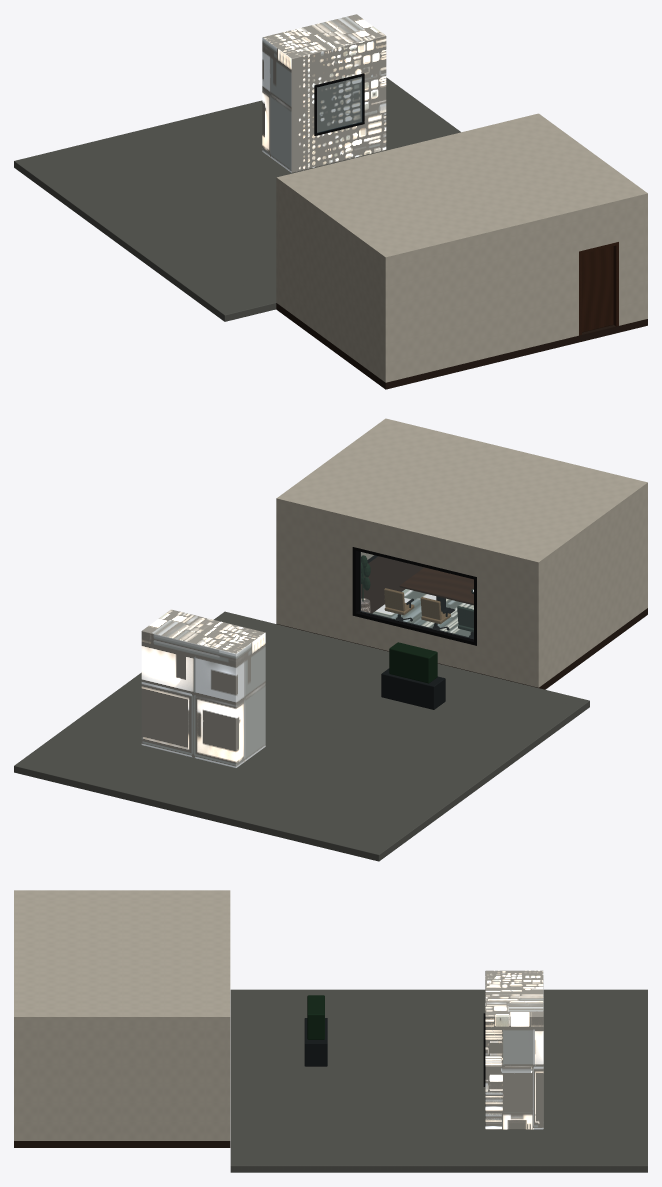
3 renders of one model, top to bottom at view 1: azimuth 30°, elevation 25°; view 2: azimuth 150°, elevation 25°; view 3: azimuth 270°, elevation 25°, orthographic.
Parts seen in each view (by area): view 1: shell.walls, exterior.near-ground, shell.ceiling, exterior.context-mass, shell.floor, opening.main-door.panel, exterior.context-window.glass, exterior.context-window.frame; view 2: exterior.near-ground, shell.walls, shell.ceiling, exterior.context-mass, opening.main-window.glass, shell.floor, exterior.planter, component.conference-table.top, exterior.hedge, reality.area-rug, opening.main-window.frame.bottom; view 3: exterior.near-ground, shell.ceiling, shell.walls, exterior.context-mass, shell.floor, exterior.hedge, exterior.planter.
Part boxes in pixels (x1,y1,x2,y2): shell.walls: (276,184,647,382); exterior.near-ground: (14,77,460,321); shell.ceiling: (276,113,647,263); exterior.context-mass: (262,14,386,172); shell.floor: (276,303,647,389); opening.main-door.panel: (582,246,613,332); exterior.context-window.glass: (317,76,362,133); exterior.context-window.frame: (314,73,364,135); exterior.near-ground: (14,611,589,861); shell.walls: (276,489,647,687); shell.ceiling: (276,418,647,569); exterior.context-mass: (141,609,265,767); opening.main-window.glass: (360,552,473,638); shell.floor: (277,556,647,689); exterior.planter: (381,668,445,709); component.conference-table.top: (399,567,473,605); exterior.hedge: (389,642,437,683); reality.area-rug: (372,589,473,636); opening.main-window.frame.bottom: (355,610,473,644); exterior.near-ground: (230,989,647,1172); shell.ceiling: (14,890,230,1023); shell.walls: (14,1023,230,1140); exterior.context-mass: (485,970,543,1129); shell.floor: (14,1141,230,1147); exterior.hedge: (307,995,324,1039); exterior.planter: (304,1018,327,1066).
Bounding box in the file's own units: 10 × 3.46 × 15.19.
Materials: 22 (11 with a texture image).
